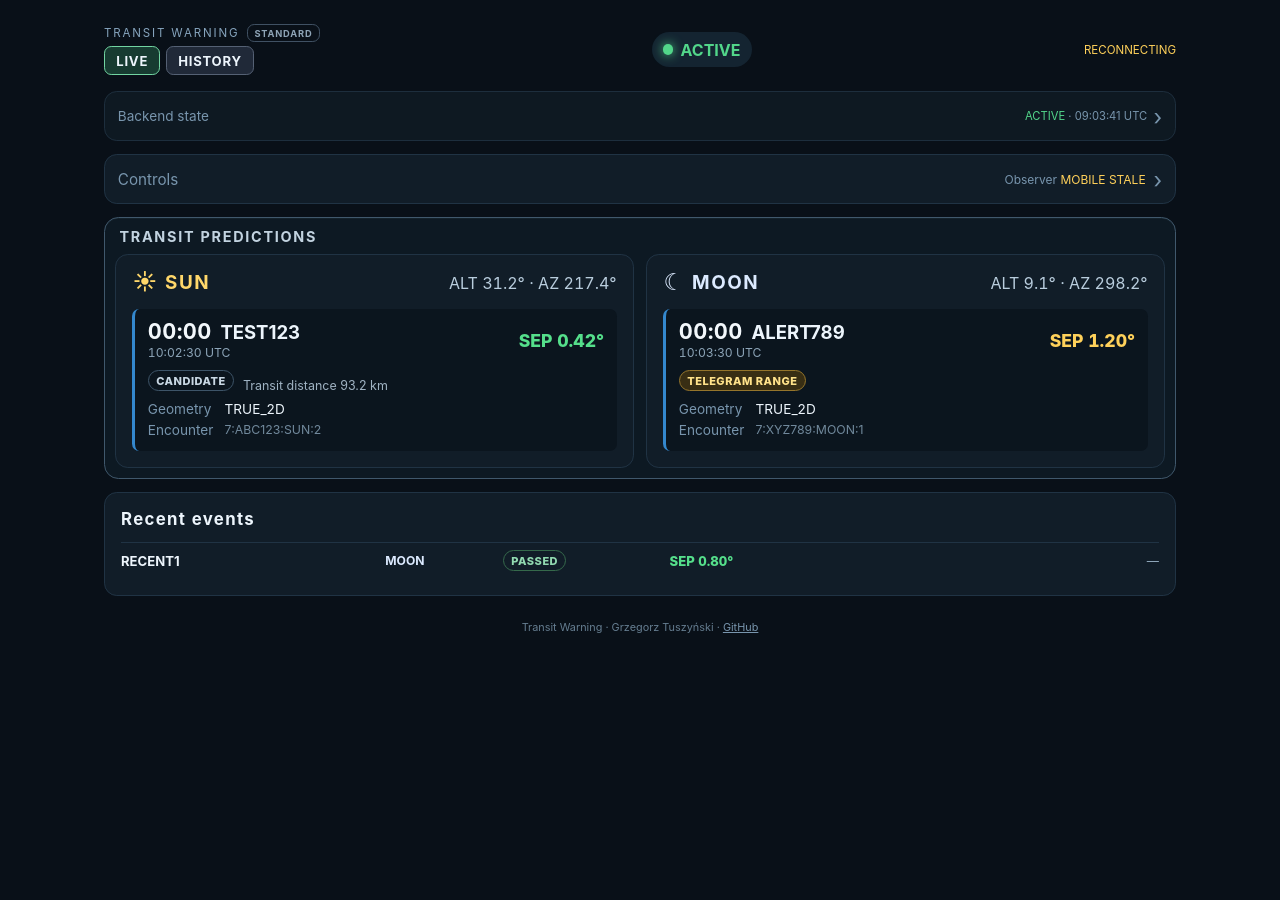
it: STANDARD final controls › keeps authoritative MOBILE_LAST_KNOWN concise while collapsed
Expected: the element with id "controls-observer-summary" is shown, x1=1004 y1=172 x2=1146 y2=187
What coordinates should you click on to do the following:
click the button "Controls Observer MOBILE STALE ›"
I would click on:
 (148, 179)
Its box is x1=105 y1=155 x2=1175 y2=203.
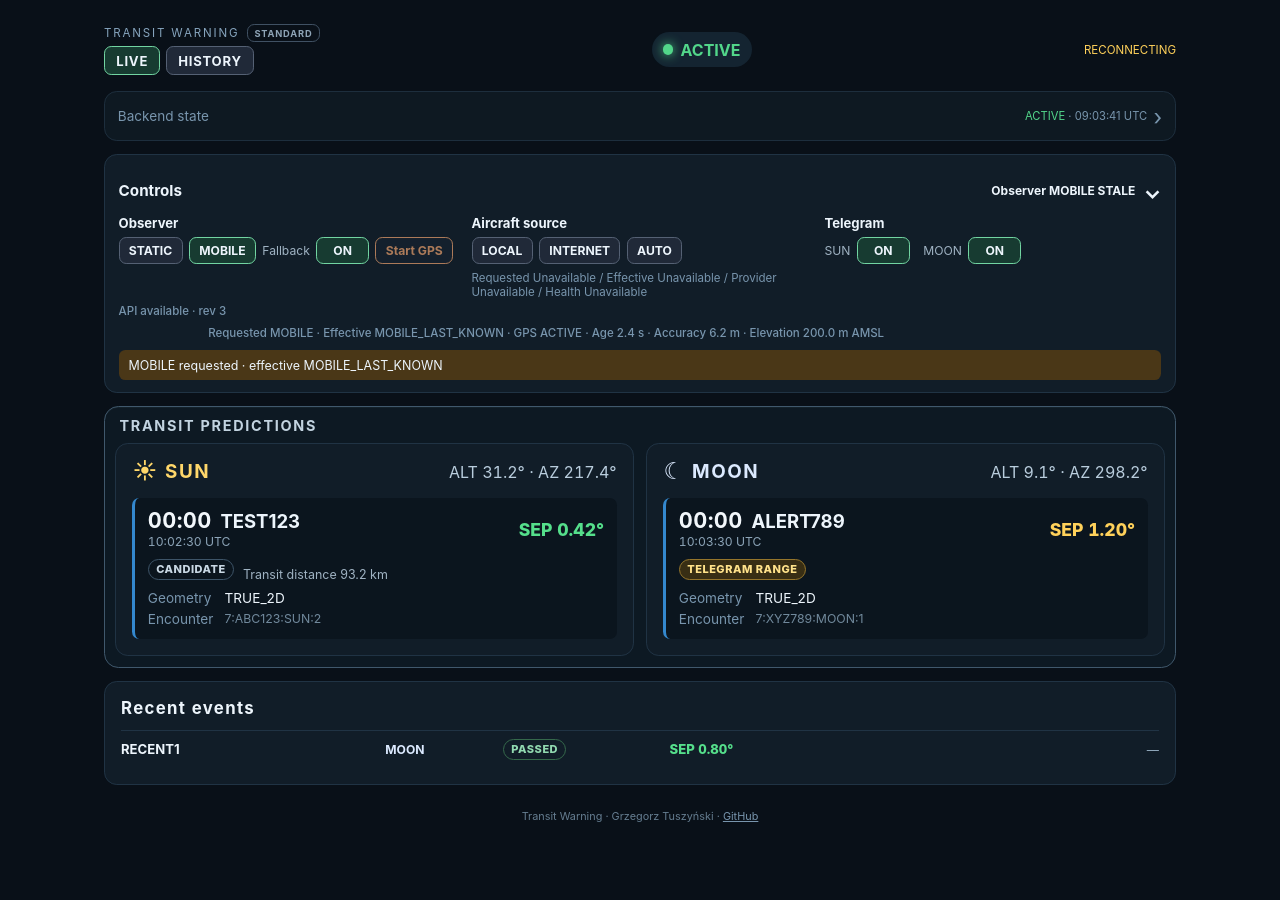
Now the button "Start GPS" is shown, box x1=376 y1=237 x2=453 y2=264
